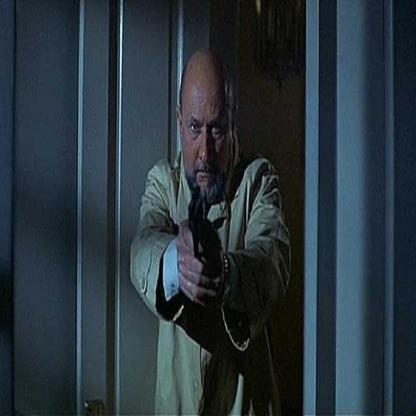Pistol: (186, 180, 206, 261)
